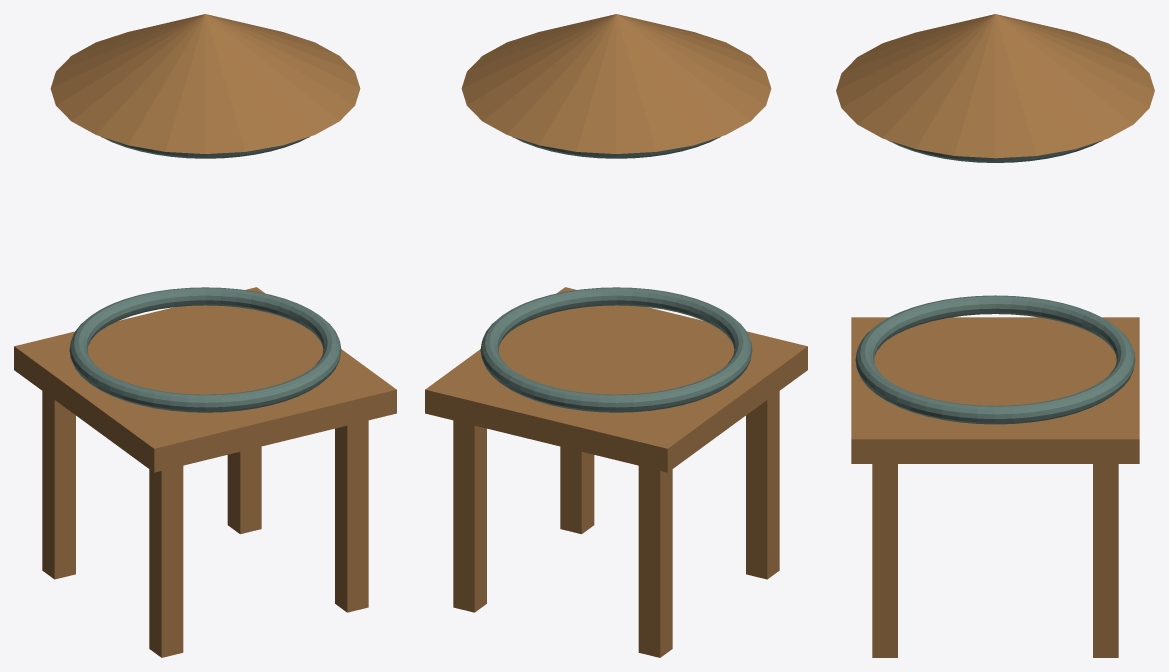
Rendered from quota-water-tower.glb.
The picture shows the model from 3 angles, left to right: view 1: azimuth 30°, elevation 25°; view 2: azimuth 150°, elevation 25°; view 3: azimuth 270°, elevation 25°; orthographic projection. The views are drawn at different scales.
Parts seen in each view (by area): view 1: TowerPlatform, TowerRoof, TankBand, TowerLeg, TowerLeg.002, TowerLeg.001, TowerLeg.003, TankBand.001; view 2: TowerPlatform, TowerRoof, TankBand, TowerLeg.001, TowerLeg.003, TowerLeg, TowerLeg.002, TankBand.001; view 3: TowerPlatform, TowerRoof, TankBand, TowerLeg.002, TowerLeg.003, TankBand.001.
Part boxes in pixels (box(x1,y1,x2,y2)): TowerPlatform: box(14, 287, 396, 472); TowerRoof: box(50, 14, 360, 153); TankBand: box(69, 287, 341, 412); TowerLeg: box(149, 466, 183, 657); TowerLeg.002: box(335, 420, 368, 612); TowerLeg.001: box(42, 391, 75, 579); TowerLeg.003: box(227, 446, 261, 534); TankBand.001: box(101, 136, 309, 158); TowerPlatform: box(425, 287, 807, 472); TowerRoof: box(461, 14, 771, 153); TankBand: box(480, 287, 752, 412); TowerLeg.001: box(638, 466, 672, 657); TowerLeg.003: box(453, 420, 486, 612); TowerLeg: box(746, 391, 779, 579); TowerLeg.002: box(560, 446, 594, 534); TankBand.001: box(512, 136, 720, 158); TowerPlatform: box(851, 317, 1139, 463); TowerRoof: box(836, 14, 1154, 158); TankBand: box(855, 295, 1135, 424); TowerLeg.002: box(872, 464, 897, 657); TowerLeg.003: box(1093, 464, 1118, 657); TankBand.001: box(887, 140, 1103, 162).
Size of the model in its own units: 1.88 by 3.85 by 1.88.
